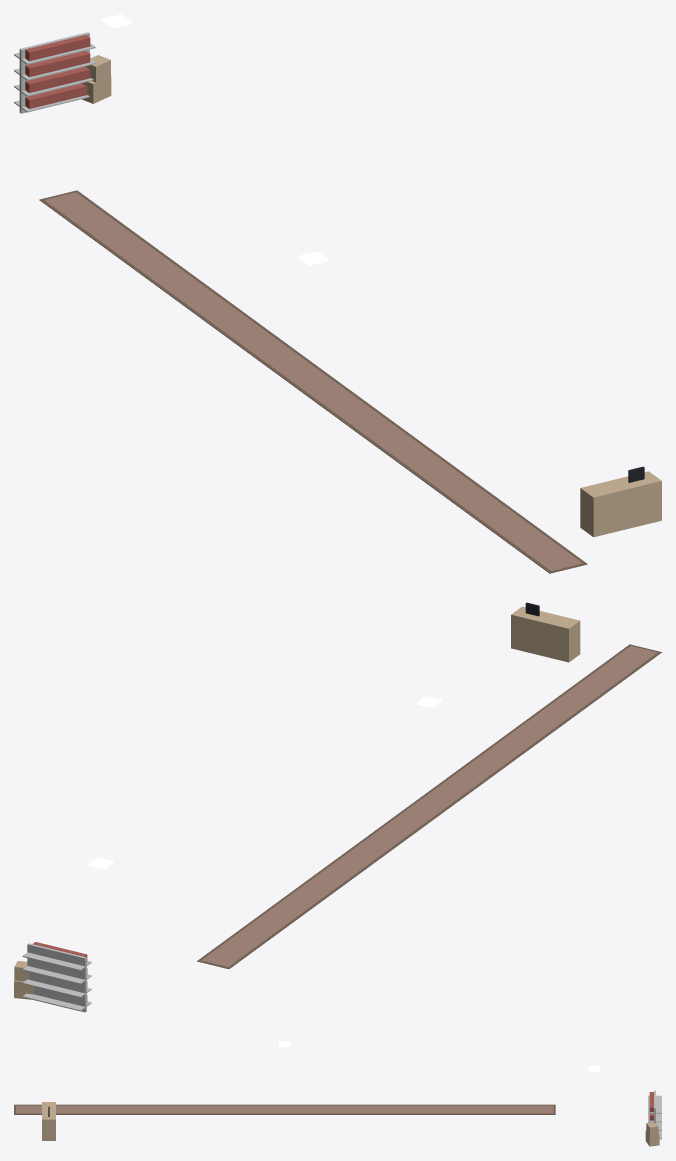
Rendered from fine-s0.glb.
3 renders of one model, top to bottom at view 1: azimuth 30°, elevation 25°; view 2: azimuth 150°, elevation 25°; view 3: azimuth 270°, elevation 25°, orthographic. The views are drawn at different scales.
Parts seen in each view (by area): view 1: soft-s0, shelving.000, shop-counter.000, cardboard-box.000; view 2: soft-s0, shelving.000, shop-counter.000; view 3: soft-s0, shop-counter.000, shelving.000, cardboard-box.000.
Part boxes in pixels (box(x1,y1,x2,y2)): soft-s0: box(39, 190, 587, 573); shelving.000: box(14, 32, 95, 113); shop-counter.000: box(580, 466, 661, 537); cardboard-box.000: box(81, 55, 111, 103); soft-s0: box(197, 644, 661, 968); shelving.000: box(22, 942, 91, 1012); shop-counter.000: box(511, 602, 580, 662); soft-s0: box(14, 1104, 555, 1114); shop-counter.000: box(42, 1102, 55, 1140); shelving.000: box(648, 1090, 661, 1139); cardboard-box.000: box(645, 1122, 659, 1146).
Bounding box in the file's own units: 4.23 × 3.14 × 27.83.
